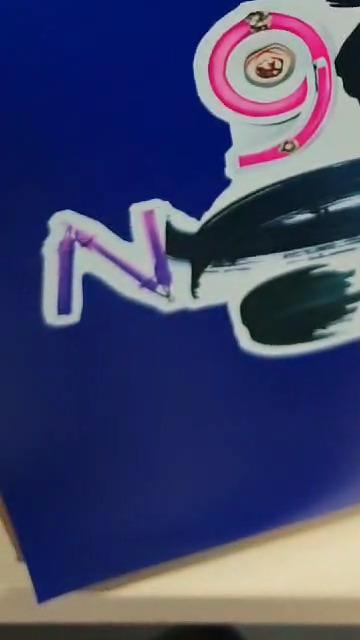B_R1: (23, 0, 360, 394)
